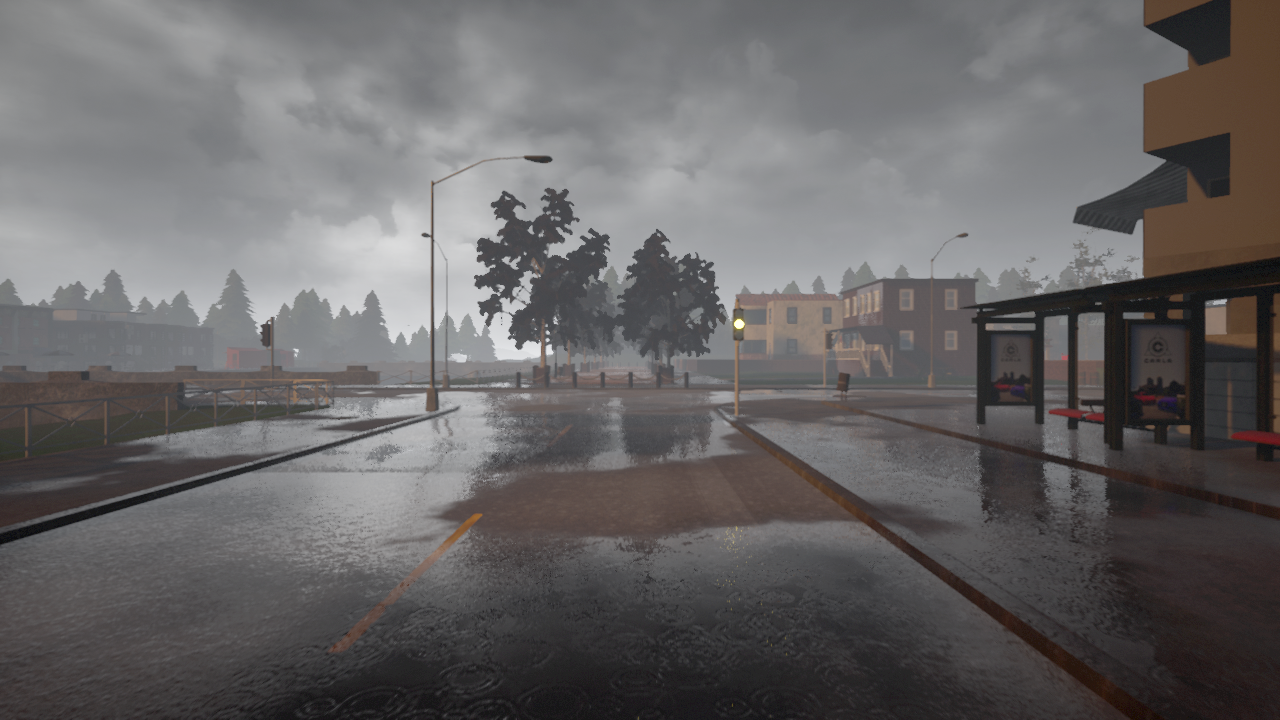yellow: (732, 307, 746, 342)
